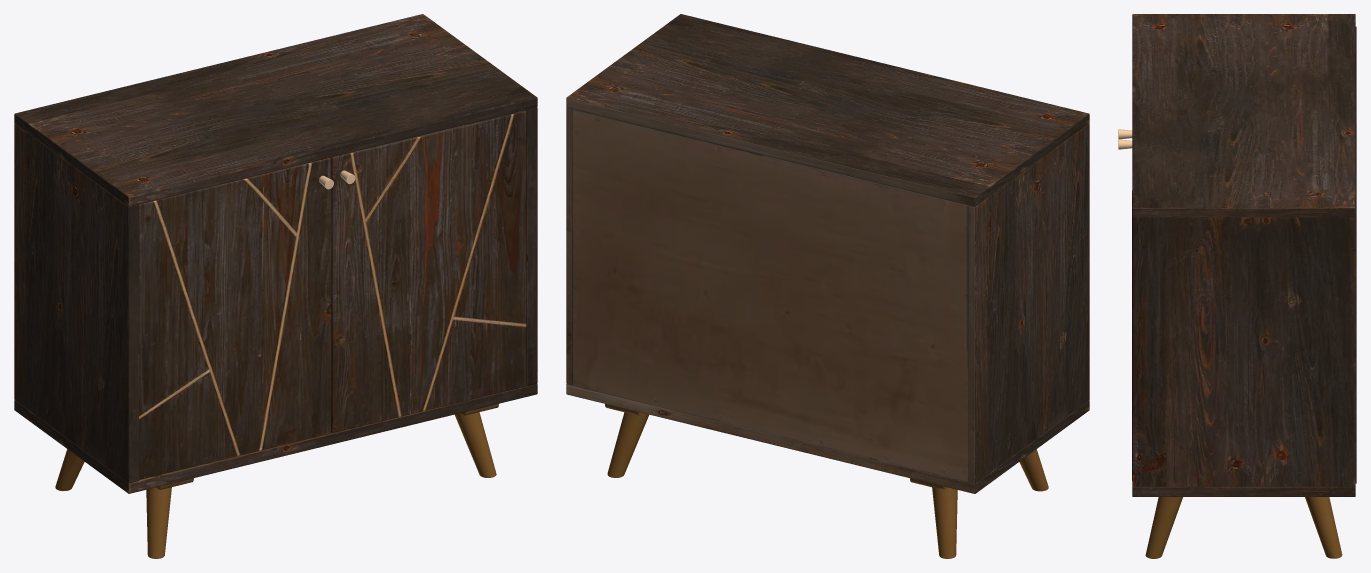
Rendered from abo-B07B77VXN8.glb.
3 renders of one model, left to right at view 1: azimuth 30°, elevation 25°; view 2: azimuth 150°, elevation 25°; view 3: azimuth 270°, elevation 25°, orthographic. The views are drawn at different scales.
Size of the model in its own units: 1.02 by 0.897 by 0.529.
Materials: 1 (1 with a texture image).
